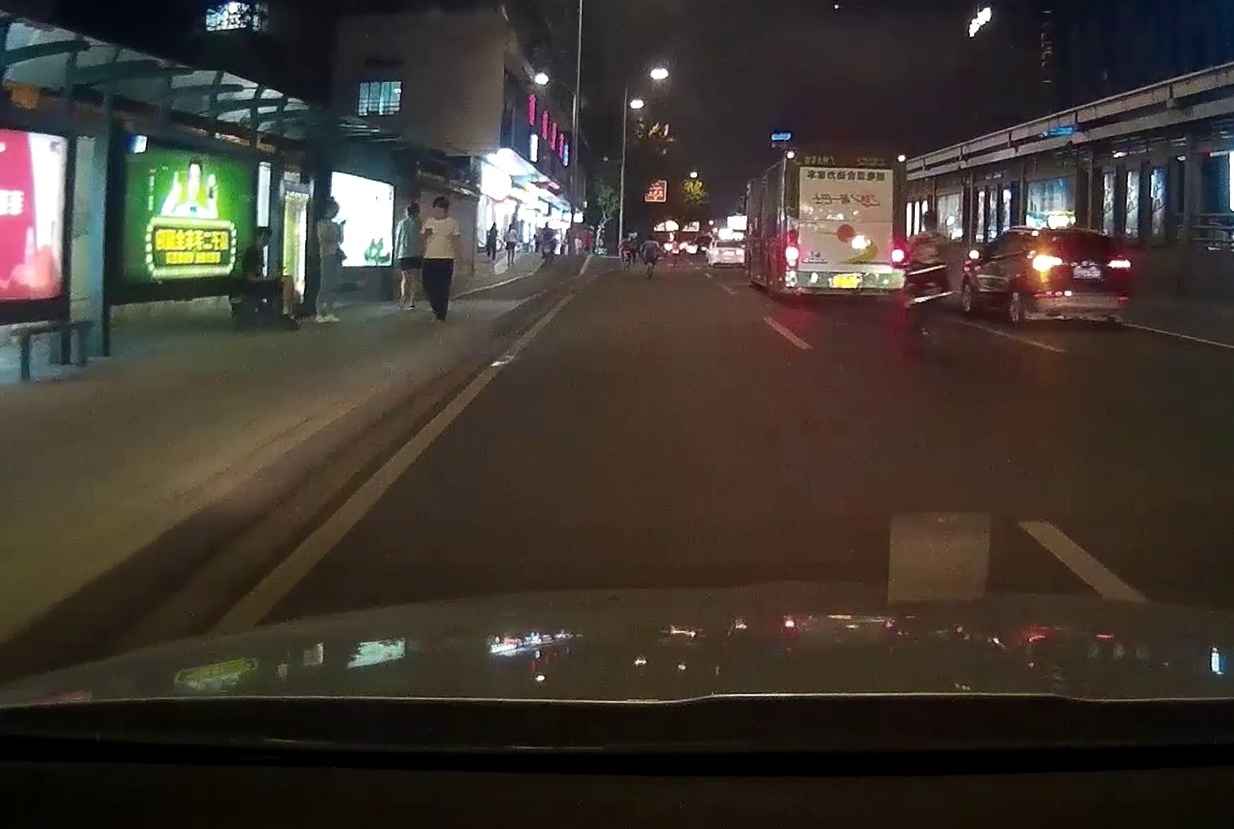L_light: (785, 229, 798, 266), (1032, 255, 1062, 271)
R_light: (891, 229, 905, 266), (1108, 259, 1131, 273)
T_light: (832, 161, 857, 168), (1069, 232, 1088, 237)
night-left: (1028, 227, 1132, 327)
night-no: (783, 148, 906, 304)
